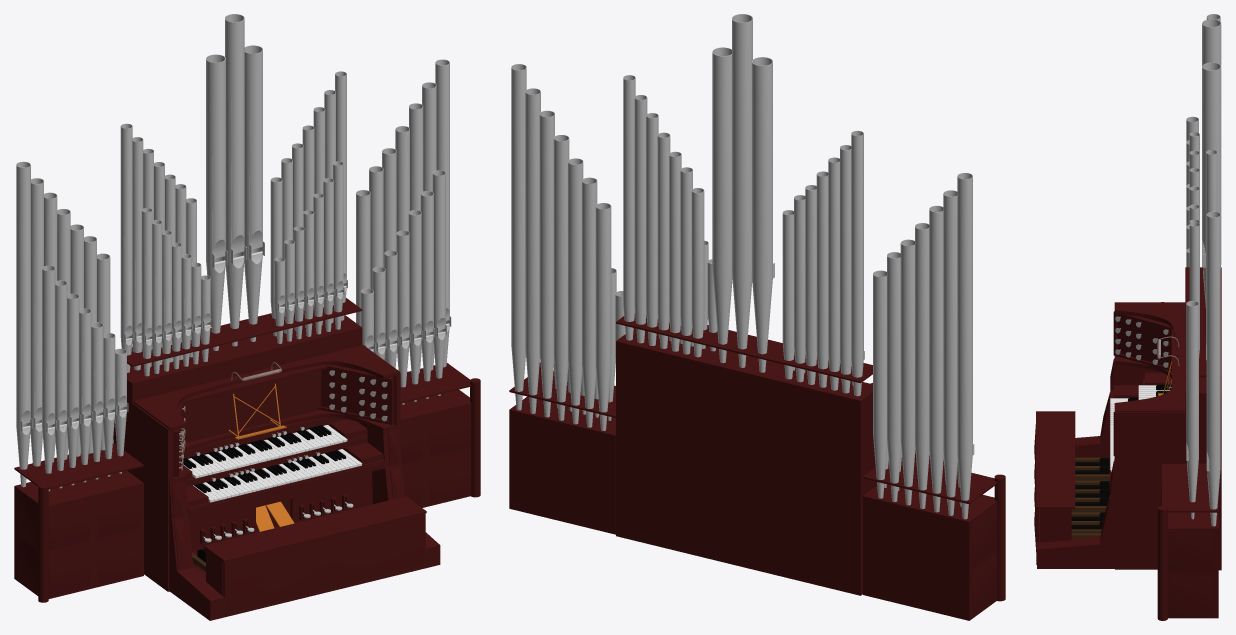
Rendered from Orchestral_Pipe_Organ.fbx.
3 views of the same model, side by side, from view 1: azimuth 30°, elevation 25°; view 2: azimuth 150°, elevation 25°; view 3: azimuth 270°, elevation 25° (orthographic). The views are drawn at different scales.
Visible parts, largest first — view 1: Pipes, Frame, white keys, Black Keys, Great Control Pedal; view 2: Pipes, Frame; view 3: Frame, Pipes, Normal Pedals, Sharp Flat Pedals, white keys, Left Organ labels.
Boxes of the visible parts, <box> form: Pipes: <box>16,14,451,491</box>; Frame: <box>14,298,480,620</box>; white keys: <box>181,425,362,502</box>; Black Keys: <box>181,425,346,492</box>; Great Control Pedal: <box>256,501,294,531</box>; Pipes: <box>511,14,974,519</box>; Frame: <box>509,313,1005,620</box>; Frame: <box>1034,267,1221,620</box>; Pipes: <box>1186,14,1221,526</box>; Normal Pedals: <box>1071,457,1109,538</box>; Sharp Flat Pedals: <box>1071,457,1110,529</box>; white keys: <box>1110,385,1169,471</box>; Left Organ labels: <box>1115,316,1167,367</box>.
Bounding box in the file's own units: 205 × 227 × 78.07.
